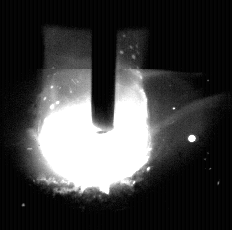arame: (92, 0, 115, 134)
poca: (36, 0, 151, 230)
